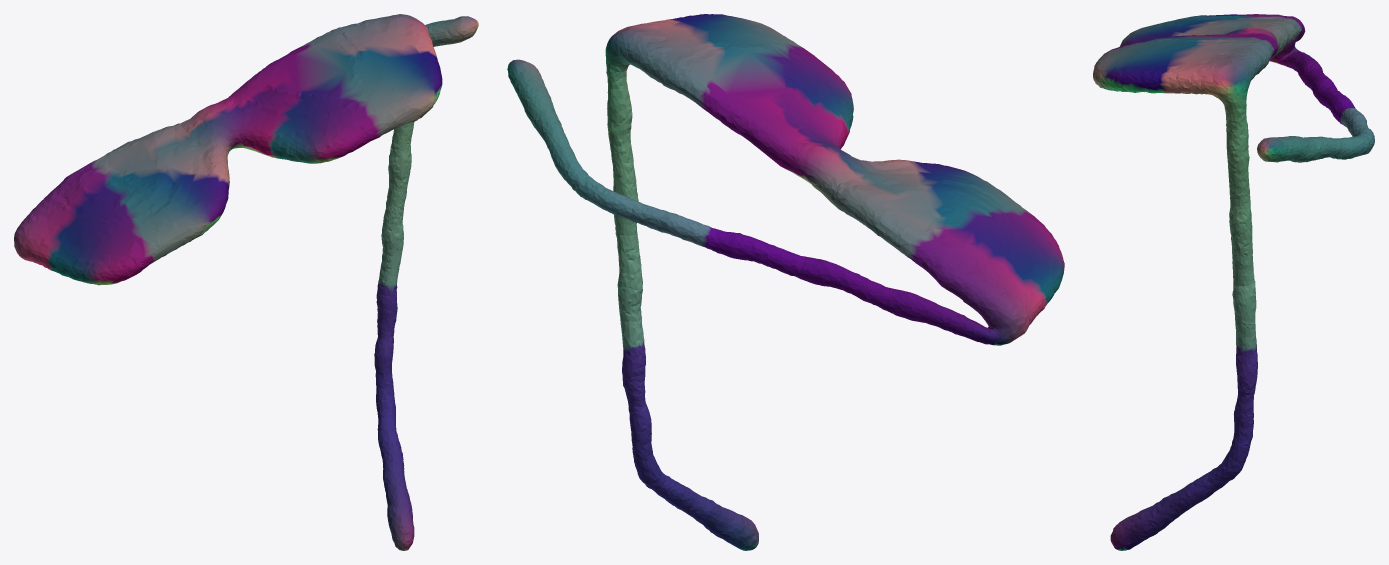
File: glasses-8.off.obj
The picture shows the model from 3 angles, left to right: view 1: azimuth 30°, elevation 25°; view 2: azimuth 150°, elevation 25°; view 3: azimuth 270°, elevation 25°; orthographic projection. The views are drawn at different scales.
Bounding box in the file's own units: 1.1 × 1.11 × 0.5527.
